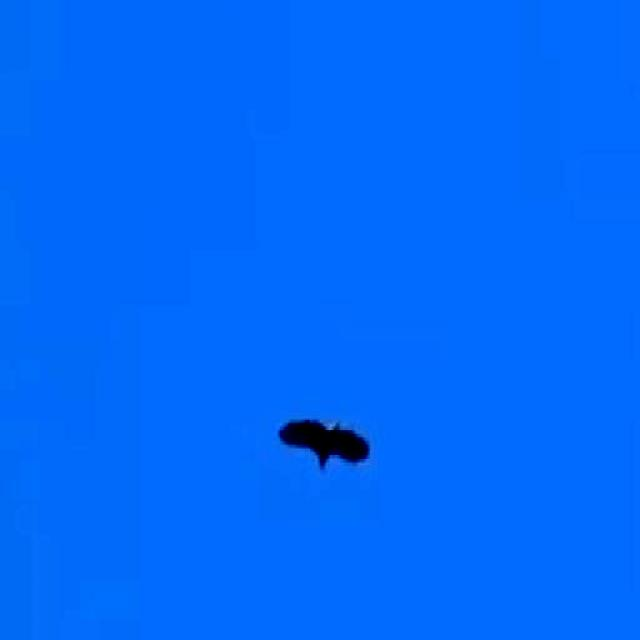airplane: (259, 395, 380, 511)
